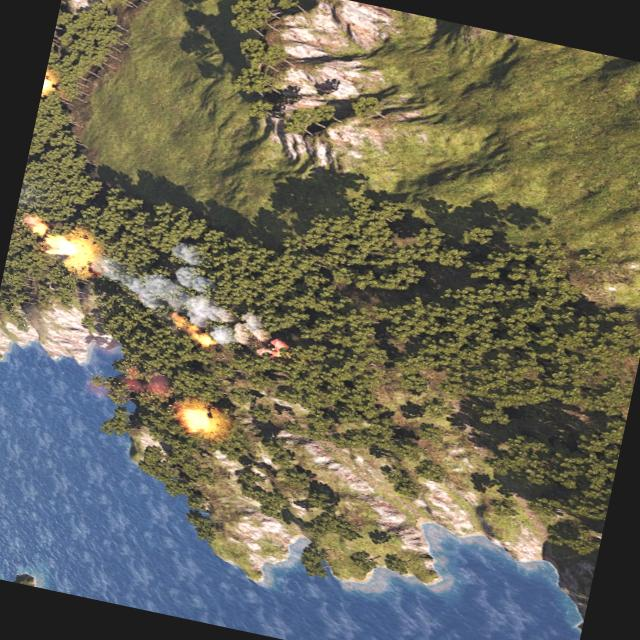fire: (18, 212, 105, 274), (175, 403, 222, 439), (41, 68, 58, 95)
smoke: (80, 224, 304, 361)
